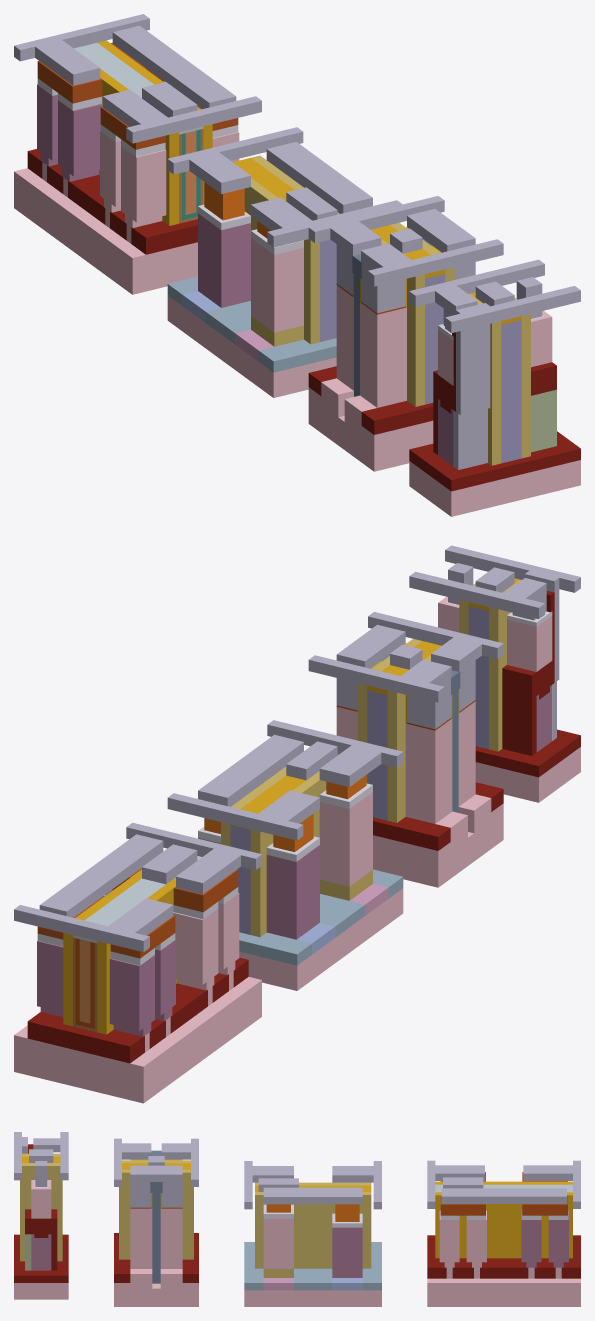
File: inv_cmp.obj
3 renders of one model, top to bottom at view 1: azimuth 30°, elevation 25°; view 2: azimuth 150°, elevation 25°; view 3: azimuth 270°, elevation 25°, orthographic. The views are drawn at different scales.
Visible parts, largest first — view 1: inv_fs_substrate, inv_fin_n_substrate, inv_cfet_ni_lo_source, inv_fin_n_epi_source, inv_fin_p_epi_source, inv_cfet_substrate, inv_fs_epi_n_source, inv_ns_n_epi_source, inv_ns_p_epi_source, inv_fin_m1_gnd, inv_fin_m1_out, inv_cfet_box (+48 smaller); view 2: inv_fin_p_substrate, inv_fs_substrate, inv_fin_p_epi_source, inv_fin_n_epi_source, inv_fs_epi_p_source, inv_ns_p_epi_source, inv_ns_n_epi_source, inv_fin_p_sti, inv_fin_m1_out, inv_fin_m1_vdd, inv_ns_m1_vdd, inv_fin_m1_gnd (+41 smaller); view 3: inv_fs_substrate, inv_fin_n_substrate, inv_fin_p_substrate, inv_fin_m1_out, inv_fin_p_epi_drain, inv_fin_n_epi_drain, inv_ns_m1_out, inv_cfet_spacer_drain, inv_fin_b_spacers, inv_ns_p_epi_drain, inv_ns_n_epi_drain, inv_ns_b_spacers (+45 smaller).
Boxes of the visible parts, x1=… form: inv_fs_substrate: x1=308, y1=378, x2=433, y2=471; inv_fin_n_substrate: x1=77, y1=214, x2=197, y2=294; inv_cfet_ni_lo_source: x1=454, y1=324, x2=490, y2=469; inv_fin_n_epi_source: x1=100, y1=130, x2=166, y2=227; inv_fin_p_epi_source: x1=37, y1=84, x2=102, y2=181; inv_cfet_substrate: x1=409, y1=460, x2=580, y2=516; inv_fs_epi_n_source: x1=360, y1=302, x2=406, y2=407; inv_ns_n_epi_source: x1=251, y1=238, x2=303, y2=332; inv_ns_p_epi_source: x1=198, y1=213, x2=250, y2=307; inv_fin_m1_gnd: x1=103, y1=89, x2=261, y2=143; inv_fin_m1_out: x1=112, y1=25, x2=236, y2=108; inv_cfet_box: x1=409, y1=431, x2=580, y2=491; inv_fin_p_substrate: x1=14, y1=1023, x2=198, y2=1103; inv_fs_substrate: x1=373, y1=794, x2=503, y2=887; inv_fin_p_epi_source: x1=109, y1=939, x2=175, y2=1036; inv_fin_n_epi_source: x1=173, y1=893, x2=239, y2=990; inv_fs_epi_p_source: x1=405, y1=718, x2=452, y2=823; inv_ns_p_epi_source: x1=266, y1=845, x2=319, y2=939; inv_ns_n_epi_source: x1=319, y1=792, x2=372, y2=886; inv_fin_p_sti: x1=27, y1=1004, x2=185, y2=1063; inv_fin_m1_out: x1=39, y1=834, x2=163, y2=917; inv_fin_m1_vdd: x1=14, y1=898, x2=173, y2=952; inv_ns_m1_vdd: x1=167, y1=790, x2=319, y2=840; inv_fin_m1_gnd: x1=126, y1=822, x2=261, y2=894; inv_fs_substrate: x1=114, y1=1269, x2=198, y2=1306; inv_fin_n_substrate: x1=427, y1=1278, x2=498, y2=1306; inv_fin_p_substrate: x1=509, y1=1278, x2=580, y2=1306; inv_fin_m1_out: x1=441, y1=1188, x2=566, y2=1203; inv_fin_p_epi_drain: x1=521, y1=1210, x2=568, y2=1267; inv_fin_n_epi_drain: x1=439, y1=1210, x2=486, y2=1267; inv_ns_m1_out: x1=263, y1=1187, x2=362, y2=1204; inv_cfet_spacer_drain: x1=20, y1=1163, x2=62, y2=1261; inv_fin_b_spacers: x1=491, y1=1181, x2=517, y2=1258; inv_ns_p_epi_drain: x1=332, y1=1227, x2=362, y2=1277; inv_ns_n_epi_drain: x1=263, y1=1218, x2=293, y2=1268; inv_ns_b_spacers: x1=302, y1=1182, x2=323, y2=1268.
Size of the model in its own units: 96 by 146 by 561.
